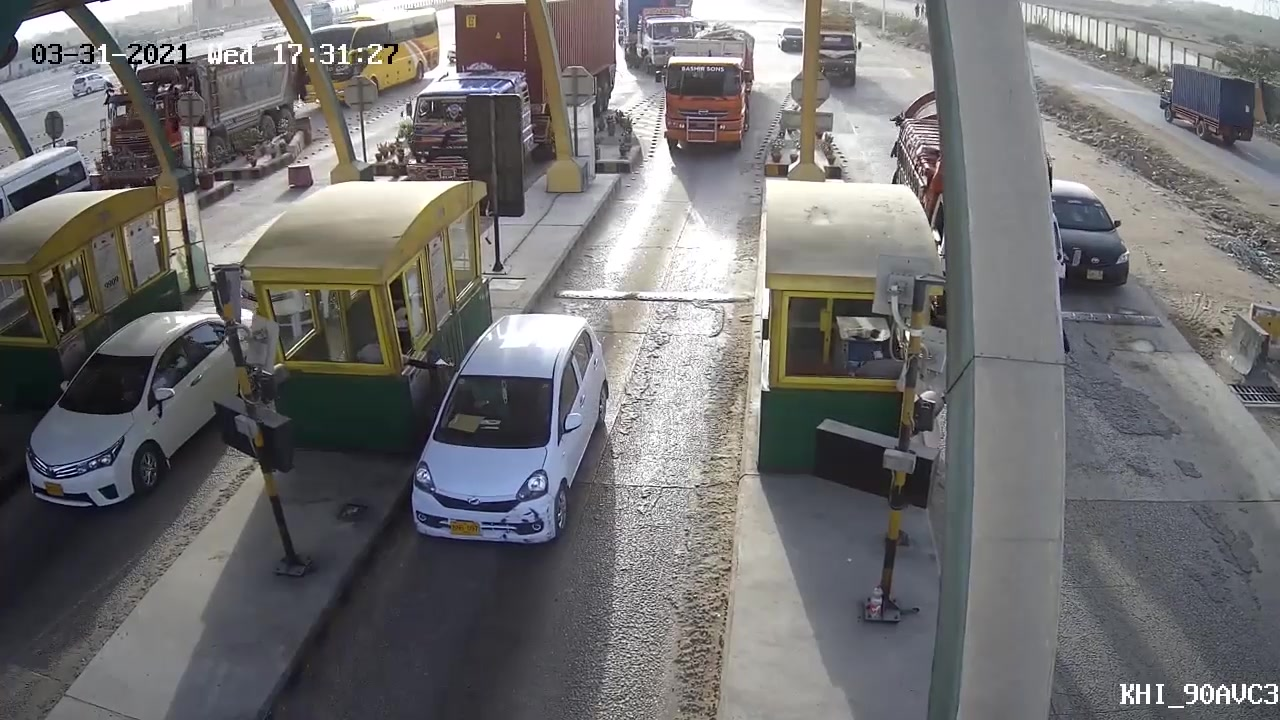F5: (404, 311, 608, 570)
